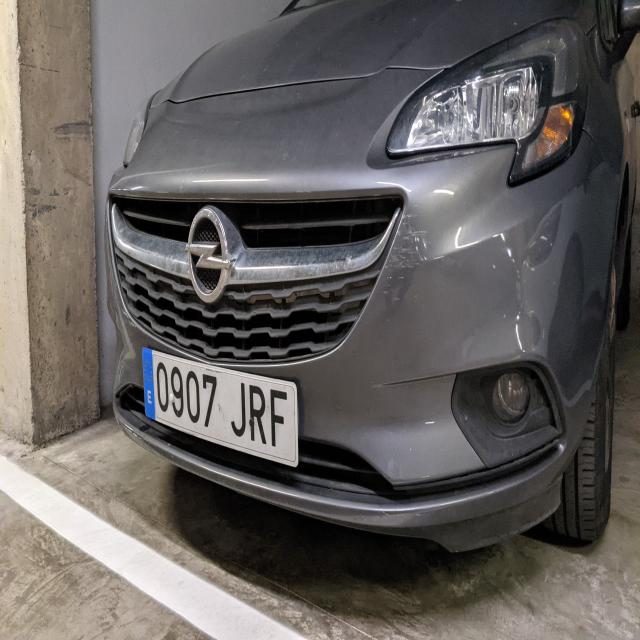license_plate-34Td: (143, 349, 298, 467)
